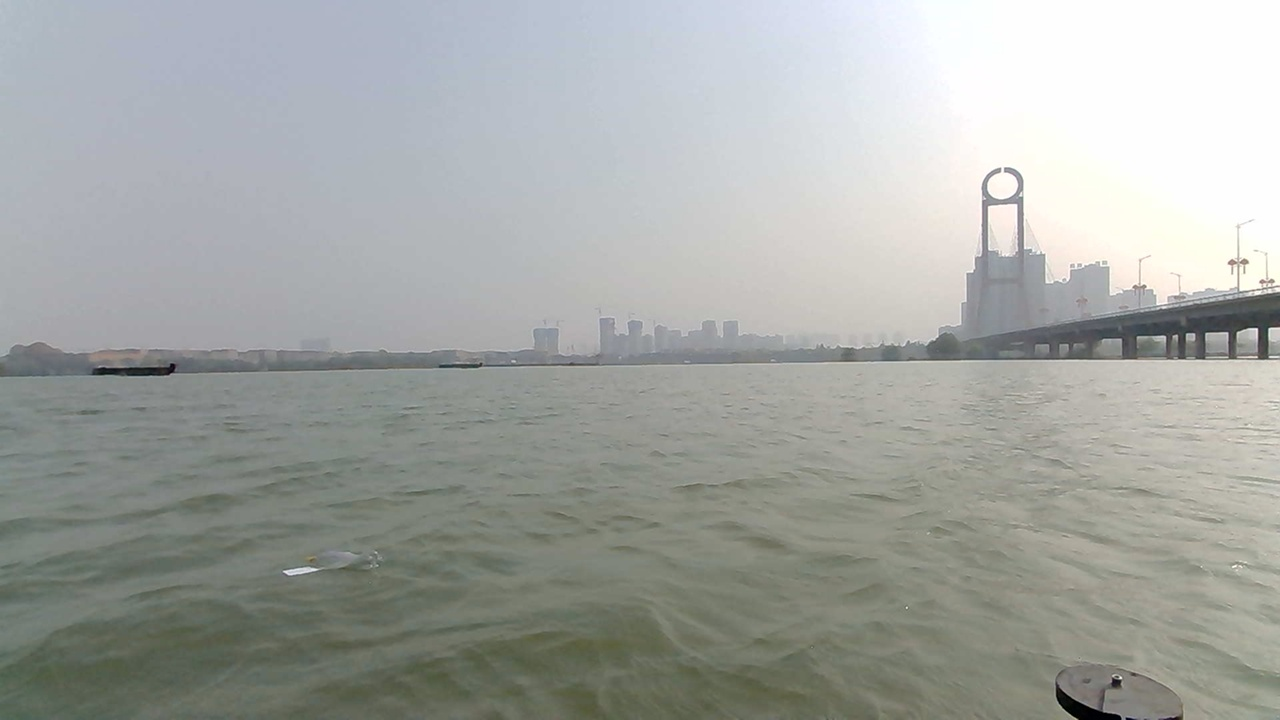bottle: (237, 548, 423, 622)
